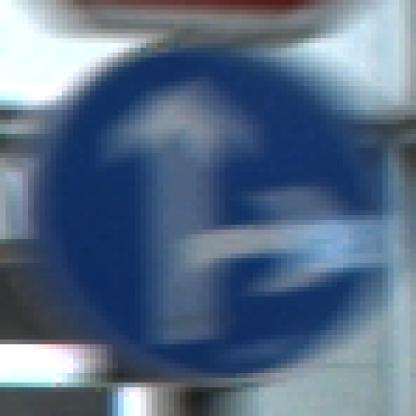Straight or Right: (35, 39, 383, 384)
